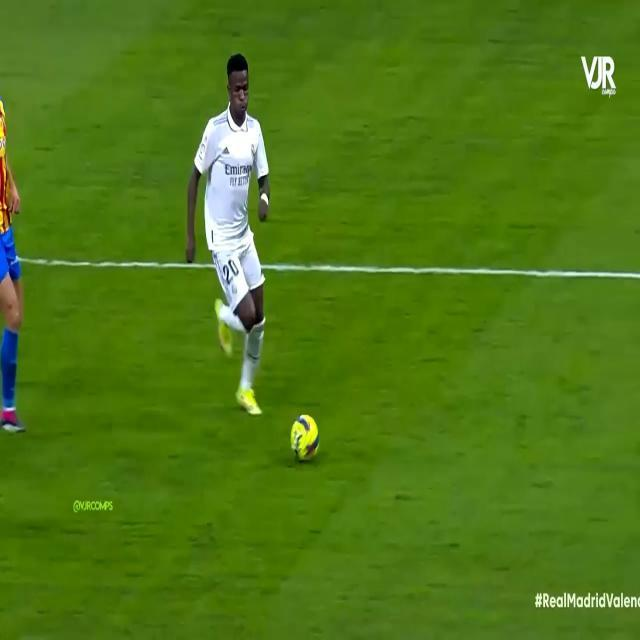ball: (278, 383, 331, 491)
player: (175, 41, 293, 429), (0, 81, 63, 461)
